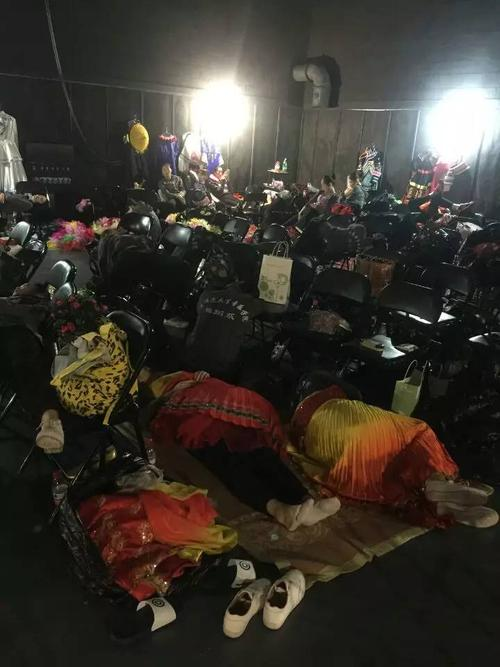fall: (133, 345, 319, 534)
